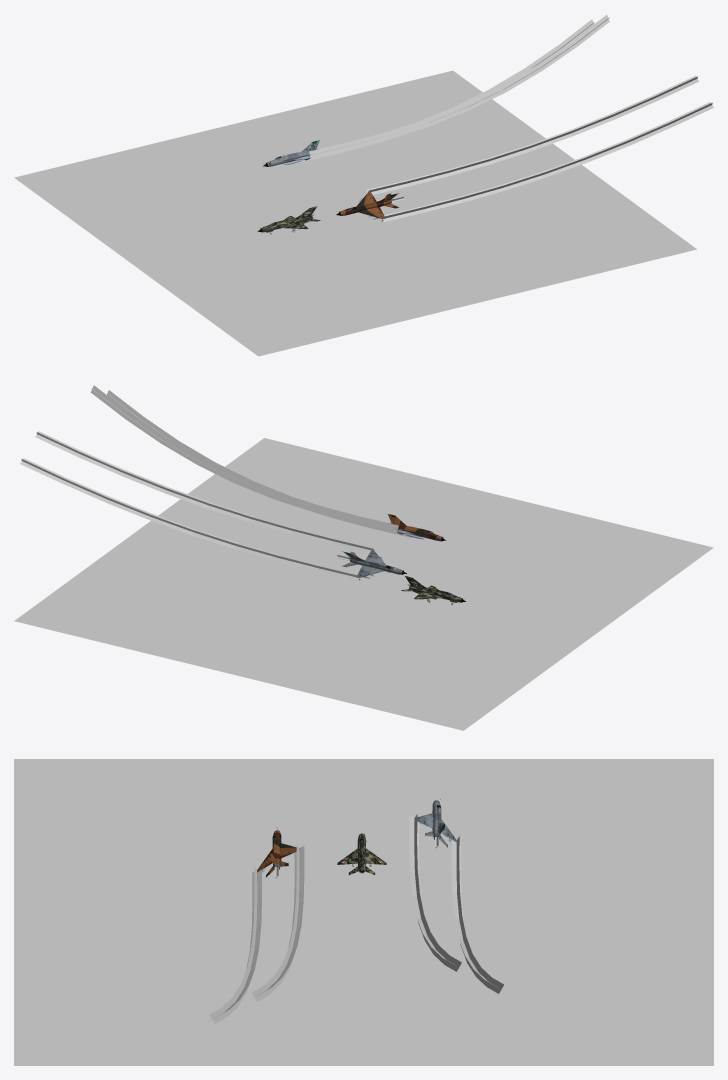
File: fishbed.obj
The picture shows the model from 3 angles, top to bottom: view 1: azimuth 30°, elevation 25°; view 2: azimuth 150°, elevation 25°; view 3: azimuth 270°, elevation 25°; orthographic projection. The views are drawn at different scales.
Parts seen in each view (by area): view 1: Plane, trails.002_Plane.003, trails.003_Plane.007, MIG-21.001_Cube.012, MIG-21_Cube.003; view 2: Plane, trails.003_Plane.007, trails.002_Plane.003, MIG-21.002_Cube.028, MIG-21_Cube.003; view 3: Plane, trails.003_Plane.007, trails.002_Plane.003, MIG-21_Cube.003, MIG-21.001_Cube.012, MIG-21.002_Cube.028.
Boxes of the visible parts, left/top/right/bottom form: Plane: left=14, top=70, right=696, bottom=356; trails.002_Plane.003: left=366, top=75, right=713, bottom=221; trails.003_Plane.007: left=296, top=14, right=609, bottom=163; MIG-21.001_Cube.012: left=336, top=192, right=399, bottom=219; MIG-21_Cube.003: left=257, top=206, right=320, bottom=232; Plane: left=14, top=438, right=713, bottom=730; trails.003_Plane.007: left=20, top=431, right=376, bottom=580; trails.002_Plane.003: left=90, top=385, right=412, bottom=537; MIG-21.002_Cube.028: left=342, top=550, right=406, bottom=577; MIG-21_Cube.003: left=401, top=576, right=465, bottom=602; Plane: left=14, top=759, right=713, bottom=1065; trails.003_Plane.007: left=409, top=814, right=503, bottom=993; trails.002_Plane.003: left=208, top=844, right=304, bottom=1023; MIG-21_Cube.003: left=337, top=833, right=386, bottom=874; MIG-21.001_Cube.012: left=257, top=830, right=299, bottom=877; MIG-21.002_Cube.028: left=414, top=800, right=456, bottom=847.
Bounding box in the file's own units: 125 × 23.8 × 101.
